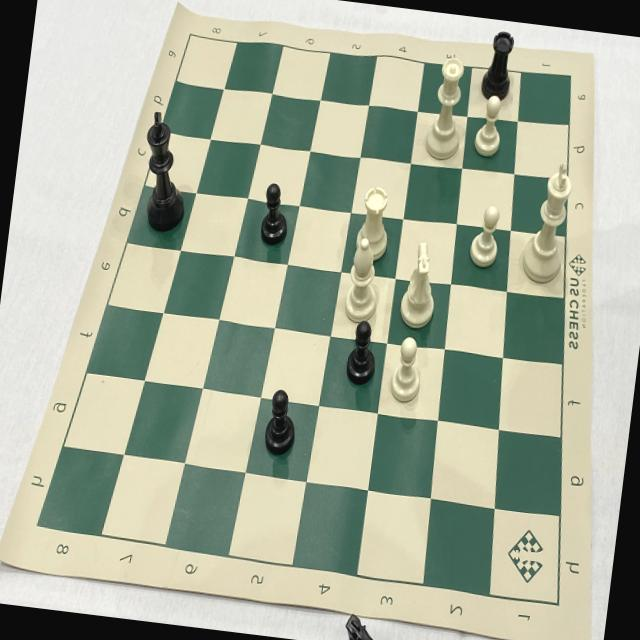black-king: (130, 106, 200, 240)
black-pawn: (256, 382, 304, 462), (252, 175, 296, 255), (339, 314, 385, 390)
black-rook: (474, 21, 524, 110)
white-bishop: (338, 230, 387, 333)
white-king: (514, 150, 580, 292)
white-knight: (393, 235, 446, 334)
white-pawn: (384, 330, 430, 410), (463, 198, 508, 275), (467, 90, 512, 162)
white-queen: (416, 48, 473, 166)
white-rook: (350, 176, 400, 268)
